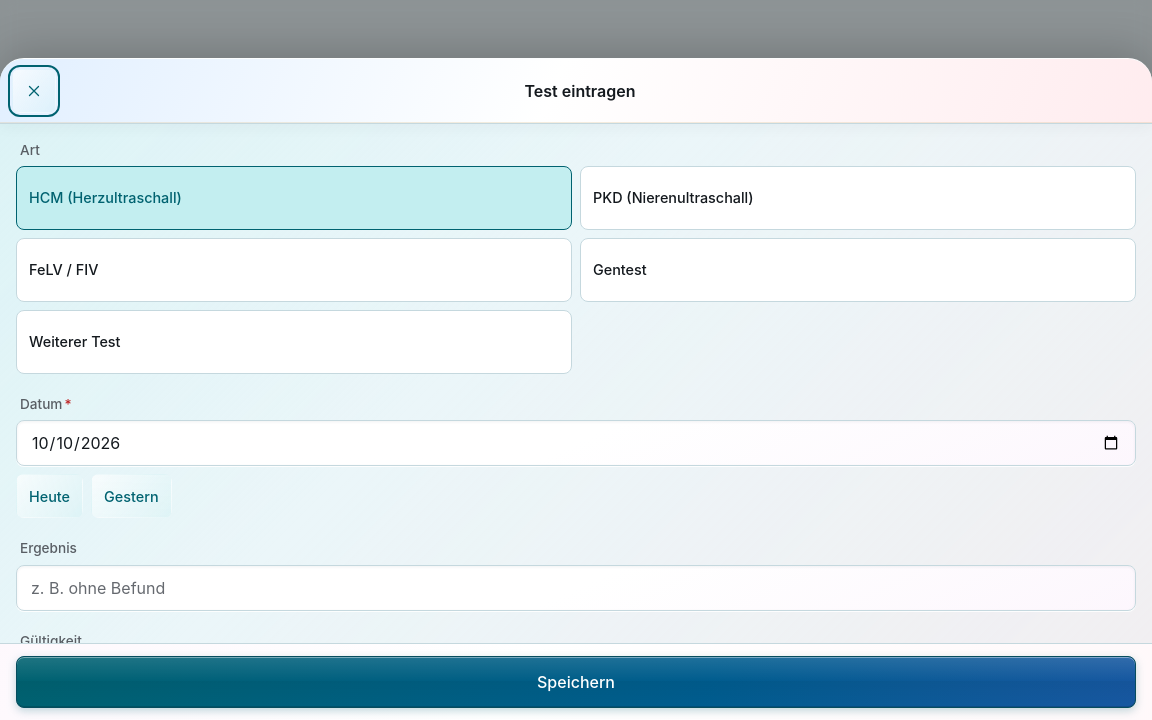
Test case: HealthTestSheet › verlangt ein Datum, statt still nichts zu tun
Clear the date field labelled "Datum*" at (576, 443), box left=16, top=420, right=1136, bottom=466
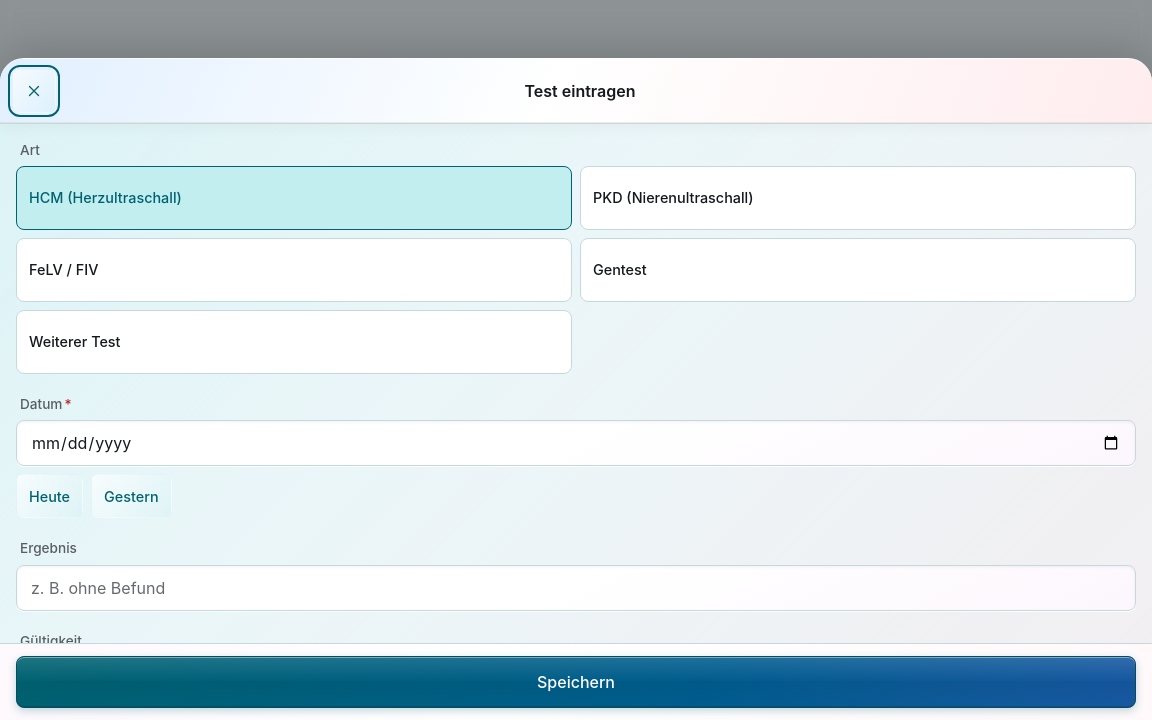
Click the button "Speichern" at (576, 682), box left=16, top=656, right=1136, bottom=708
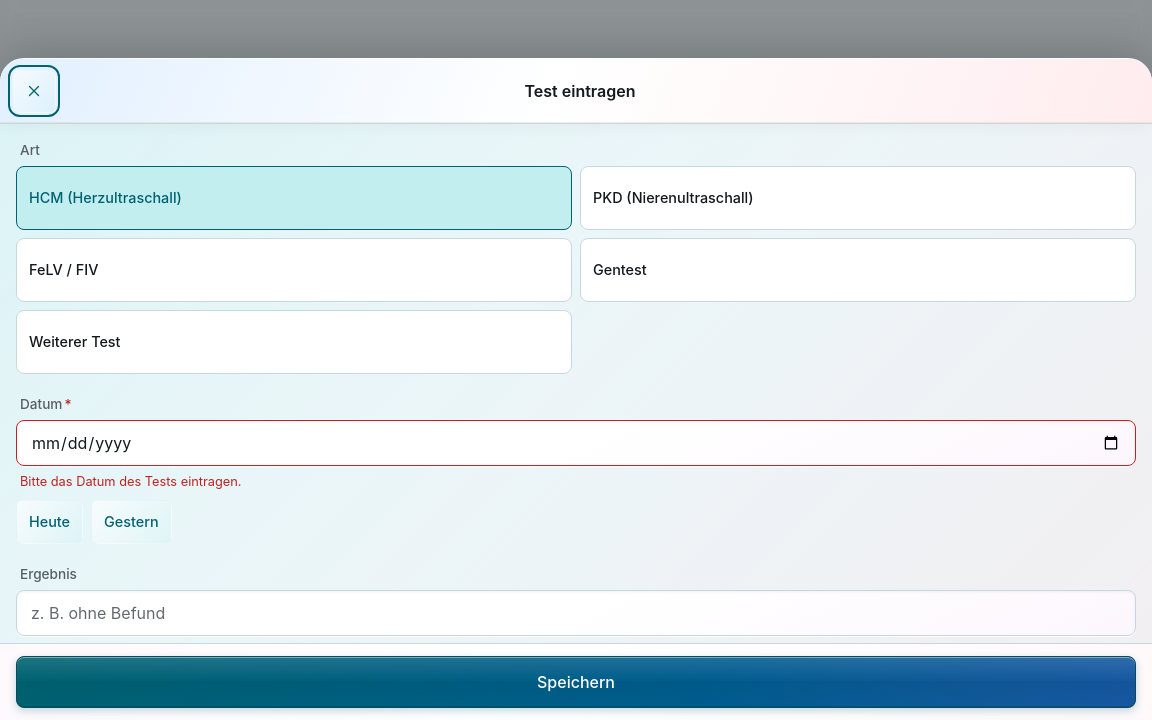
Now the text "Bitte das Datum des Tests eintragen." is shown, box left=20, top=474, right=242, bottom=489
